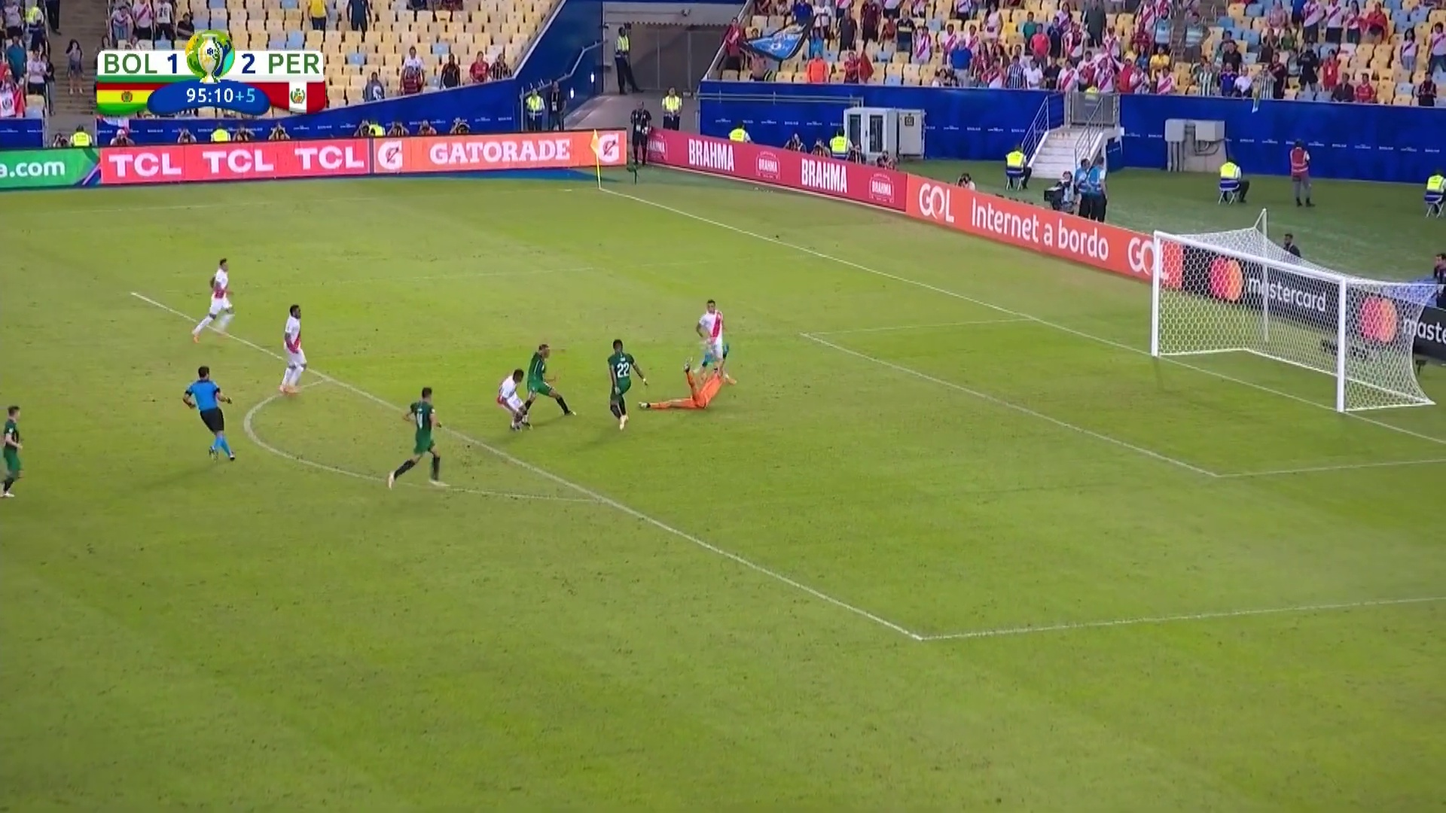player: (385, 384, 451, 492), (512, 341, 575, 431), (633, 357, 727, 411), (688, 298, 735, 395), (189, 257, 237, 344), (605, 338, 649, 432), (275, 302, 312, 397), (0, 402, 29, 503), (495, 369, 534, 433), (1286, 142, 1319, 212), (1419, 168, 1446, 221)
referee: (180, 364, 240, 464)
